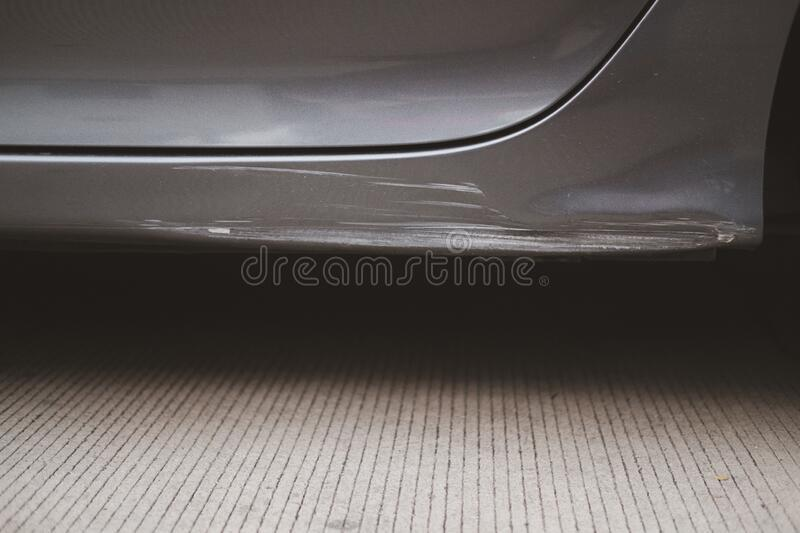RunningBoard-Dent: (0, 138, 781, 272)
